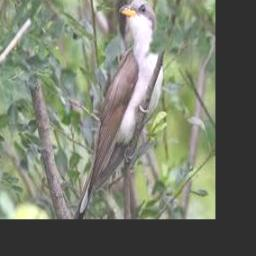Cuckoo: (77, 0, 162, 218)
